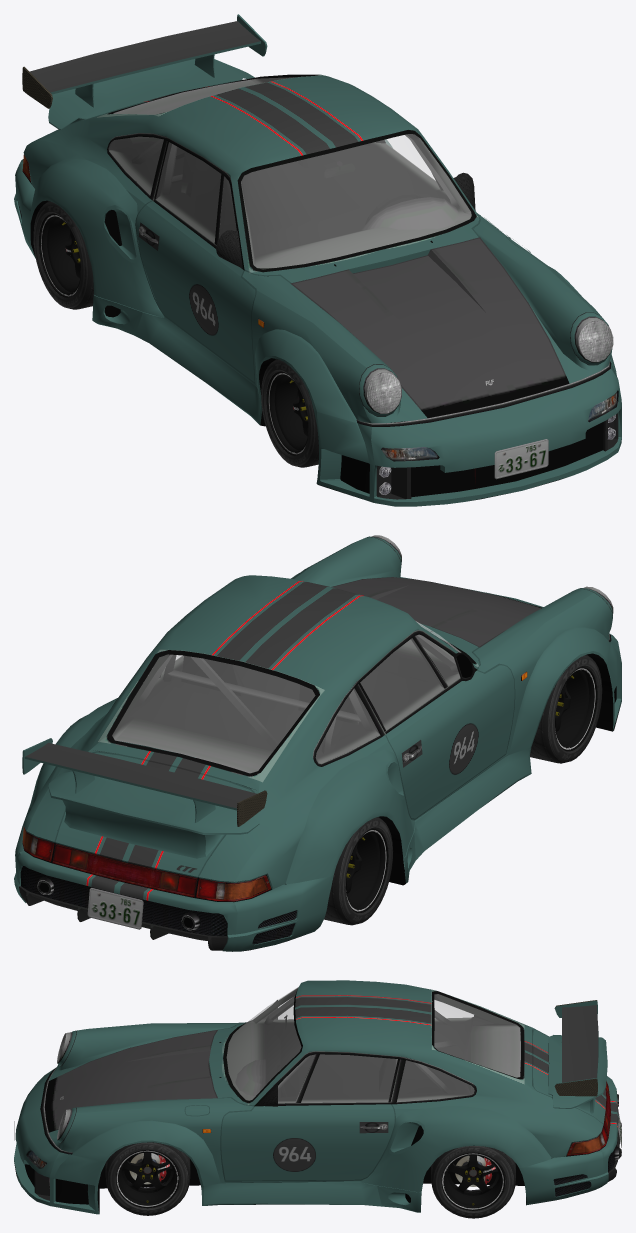
File: porsche-low-poly.glb
The picture shows the model from 3 angles, top to bottom: view 1: azimuth 30°, elevation 25°; view 2: azimuth 150°, elevation 25°; view 3: azimuth 270°, elevation 25°; orthographic projection. The views are drawn at different scales.
Visible parts, largest first — view 1: PLC_R964_aero_F_.001_6, glass___O_OBJ_O_NOSORT_NEAR_.002_4, PLC_R964_bonnet_N_.002_15, PLC_R964_inner_L0_.006_16, PLC_R964_rearspoiler_N_F__10, PLC_R964_body_N_.002_21, PLC_R964_aero_F_.002_7, HL_BD_COVER___O_OBJ_O_NOSORT_NEAR_.002_3, wheel.002_28, wheel.003_31, HONDA_CIVIC_TURBO_LOD_A_TYRE_mm_tyre.003_33, HONDA_CIVIC_TURBO_LOD_A_TYRE_mm_tyre.002_30 (+4 smaller); view 2: PLC_R964_aero_F_.001_6, glass___O_OBJ_O_NOSORT_NEAR_.002_4, PLC_R964_inner_L0_.006_16, PLC_R964_rearspoiler_N_F__10, PLC_R964_body_N_.002_21, PLC_R964_bonnet_N_.002_15, PLC_R964_trunk_N_NABCDEFGH_.002_2, rollbar_B___O_OBJ_O_NOSORT__20, wheel.003_31, wheel.002_28, HONDA_CIVIC_TURBO_LOD_A_TYRE_mm_tyre.002_30, HONDA_CIVIC_TURBO_LOD_A_TYRE_mm_tyre.003_33 (+3 smaller); view 3: PLC_R964_aero_F_.001_6, glass___O_OBJ_O_NOSORT_NEAR_.002_4, PLC_R964_inner_L0_.006_16, PLC_R964_bonnet_N_.002_15, PLC_R964_rearspoiler_N_F__10, PLC_R964_body_N_.002_21, PLC_R964_aero_F_.002_7, wheel.001_25, wheel_22, HONDA_CIVIC_TURBO_LOD_A_TYRE_mm_tyre.001_27, HONDA_CIVIC_TURBO_LOD_A_TYRE_mm_tyre_24, PLC_R964_trunk_N_NABCDEFGH_.002_2 (+5 smaller).
Boxes of the visible parts, box(x1,y1,x2,y2) form: PLC_R964_aero_F_.001_6: box(14, 74, 621, 506); glass___O_OBJ_O_NOSORT_NEAR_.002_4: box(109, 77, 471, 267); PLC_R964_bonnet_N_.002_15: box(290, 237, 569, 417); PLC_R964_inner_L0_.006_16: box(109, 77, 471, 269); PLC_R964_rearspoiler_N_F__10: box(22, 14, 267, 129); PLC_R964_body_N_.002_21: box(22, 74, 610, 416); PLC_R964_aero_F_.002_7: box(30, 181, 611, 501); HL_BD_COVER___O_OBJ_O_NOSORT_NEAR_.002_3: box(363, 316, 613, 413); wheel.002_28: box(266, 371, 308, 455); wheel.003_31: box(39, 213, 80, 297); HONDA_CIVIC_TURBO_LOD_A_TYRE_mm_tyre.003_33: box(33, 201, 94, 309); HONDA_CIVIC_TURBO_LOD_A_TYRE_mm_tyre.002_30: box(261, 359, 318, 467); PLC_R964_aero_F_.001_6: box(14, 537, 621, 951); glass___O_OBJ_O_NOSORT_NEAR_.002_4: box(112, 621, 460, 772); PLC_R964_inner_L0_.006_16: box(112, 638, 460, 773); PLC_R964_rearspoiler_N_F__10: box(22, 738, 267, 858); PLC_R964_body_N_.002_21: box(22, 536, 612, 901); PLC_R964_bonnet_N_.002_15: box(331, 577, 541, 647); PLC_R964_trunk_N_NABCDEFGH_.002_2: box(54, 751, 254, 877); rollbar_B___O_OBJ_O_NOSORT__20: box(134, 634, 458, 753); wheel.003_31: box(345, 829, 388, 912); wheel.002_28: box(555, 667, 597, 751); HONDA_CIVIC_TURBO_LOD_A_TYRE_mm_tyre.002_30: box(530, 654, 602, 763); HONDA_CIVIC_TURBO_LOD_A_TYRE_mm_tyre.003_33: box(324, 817, 393, 925); PLC_R964_aero_F_.001_6: box(14, 980, 621, 1214); glass___O_OBJ_O_NOSORT_NEAR_.002_4: box(227, 987, 520, 1102); PLC_R964_inner_L0_.006_16: box(226, 987, 520, 1103); PLC_R964_bonnet_N_.002_15: box(44, 1030, 221, 1132); PLC_R964_rearspoiler_N_F__10: box(548, 1000, 607, 1113); PLC_R964_body_N_.002_21: box(58, 989, 610, 1155); PLC_R964_aero_F_.002_7: box(14, 1068, 593, 1213); wheel.001_25: box(116, 1150, 179, 1208); wheel_22: box(441, 1153, 504, 1210); HONDA_CIVIC_TURBO_LOD_A_TYRE_mm_tyre.001_27: box(105, 1142, 190, 1215); HONDA_CIVIC_TURBO_LOD_A_TYRE_mm_tyre_24: box(431, 1146, 515, 1218); PLC_R964_trunk_N_NABCDEFGH_.002_2: box(532, 1029, 606, 1124).
Size of the model in its own units: 4.88 by 3.19 by 11.
12 materials, 11 textured.
